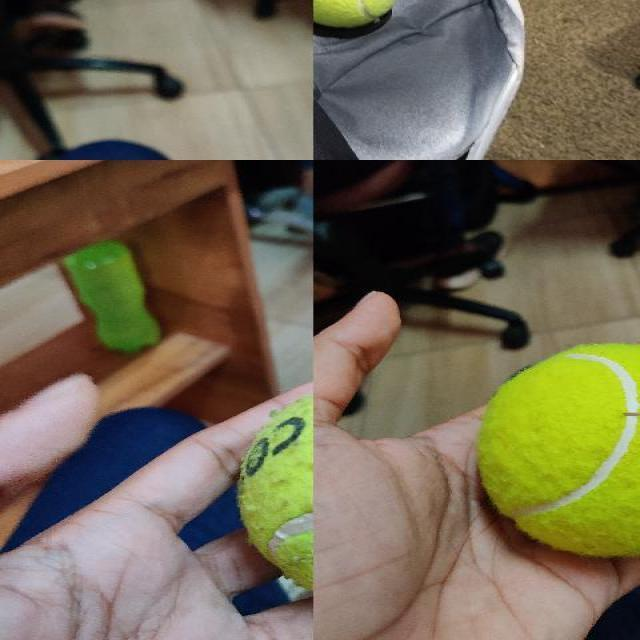tennis-ball: (475, 343, 639, 555), (236, 378, 312, 608), (313, 0, 399, 28)
